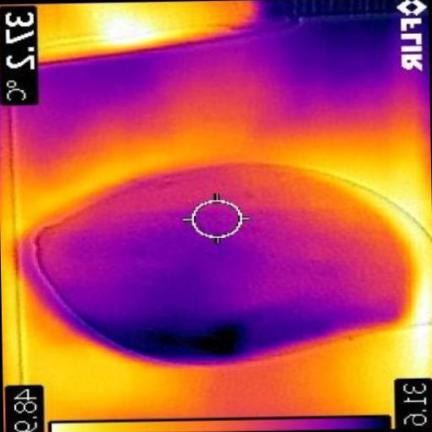mango: (23, 163, 411, 362)
